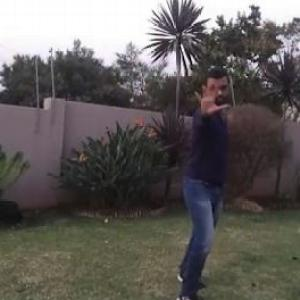follow_hand: (188, 77, 231, 125)
